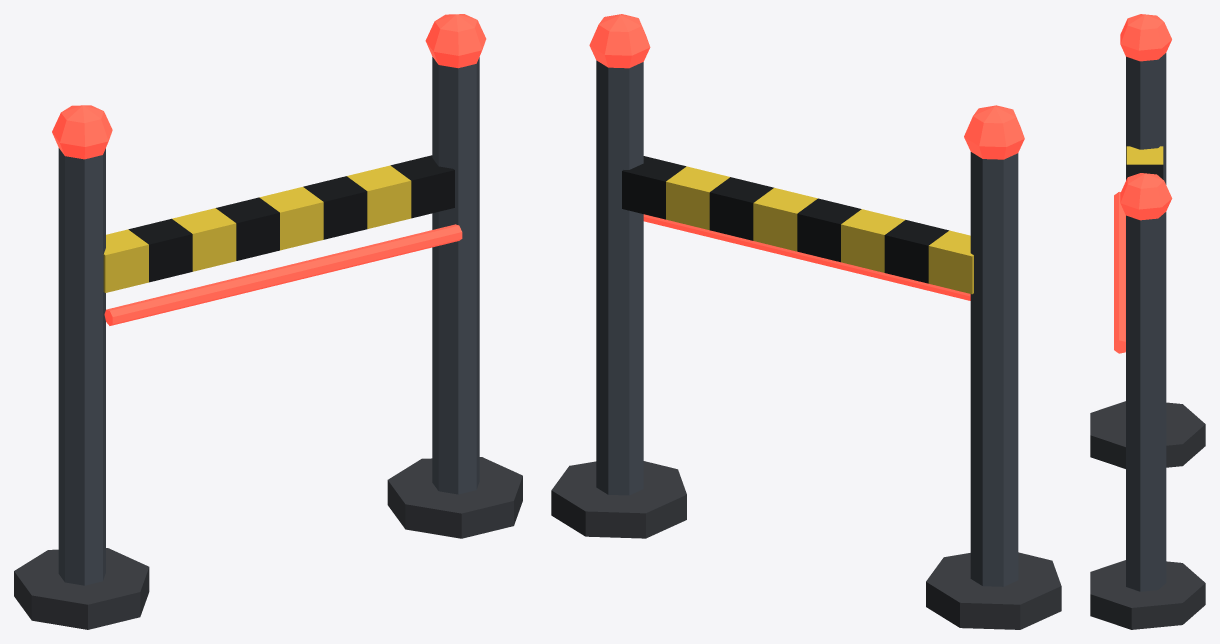
Rendered from slide-bar-lod1.glb.
3 views of the same model, side by side, from view 1: azimuth 30°, elevation 25°; view 2: azimuth 150°, elevation 25°; view 3: azimuth 270°, elevation 25° (orthographic). The views are drawn at different scales.
Visible parts, largest first — view 1: slide-bar; view 2: slide-bar; view 3: slide-bar.
Part boxes in pixels (<box>): slide-bar: <box>14,14,522,629</box>; slide-bar: <box>551,14,1061,629</box>; slide-bar: <box>1090,14,1205,629</box>.
Size of the model in its own units: 1.63 by 1.57 by 0.3802.
